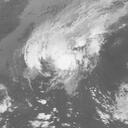cyclone: (23, 20, 93, 79)
